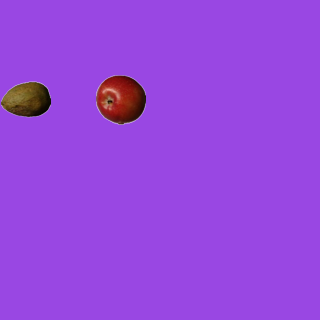Apple Braeburn: (95, 74, 145, 124)
Papaya: (0, 74, 50, 124)
